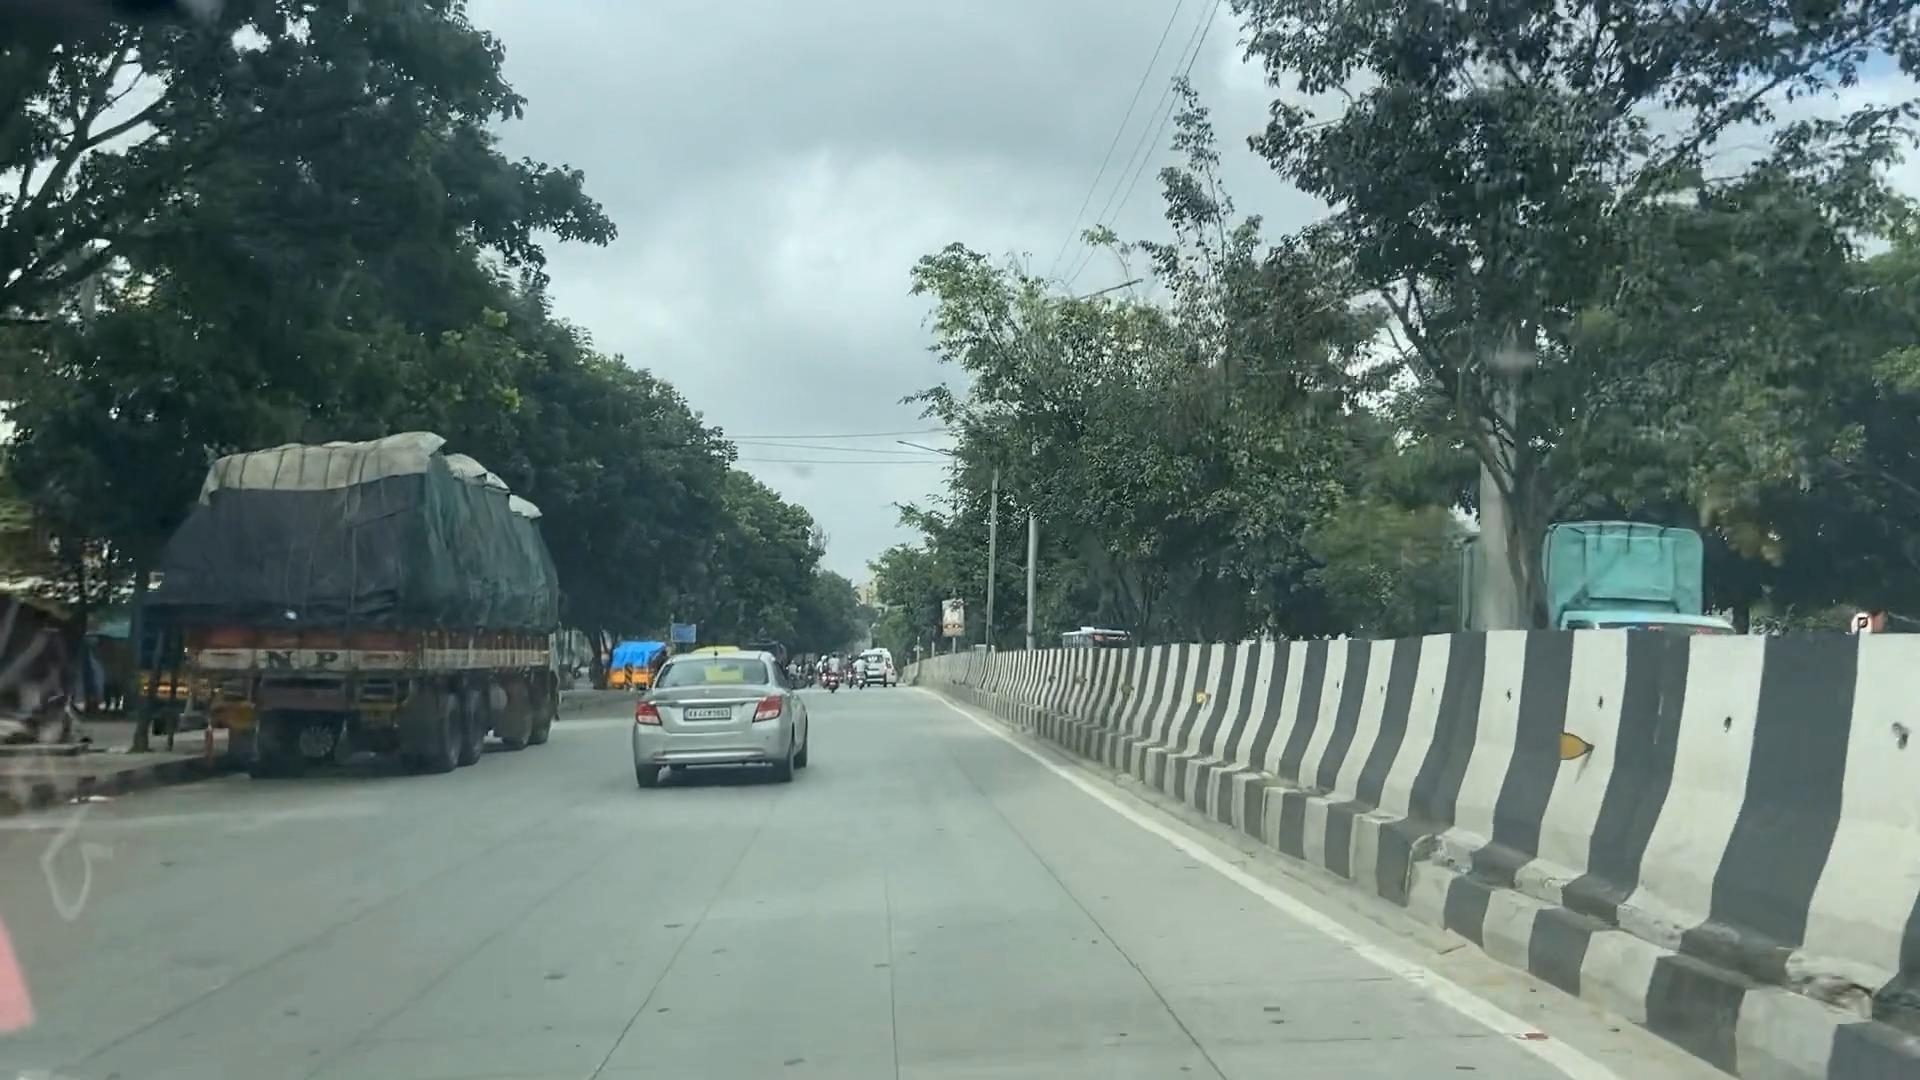HMV: (175, 421, 579, 786)
LMV: (625, 625, 823, 806)
